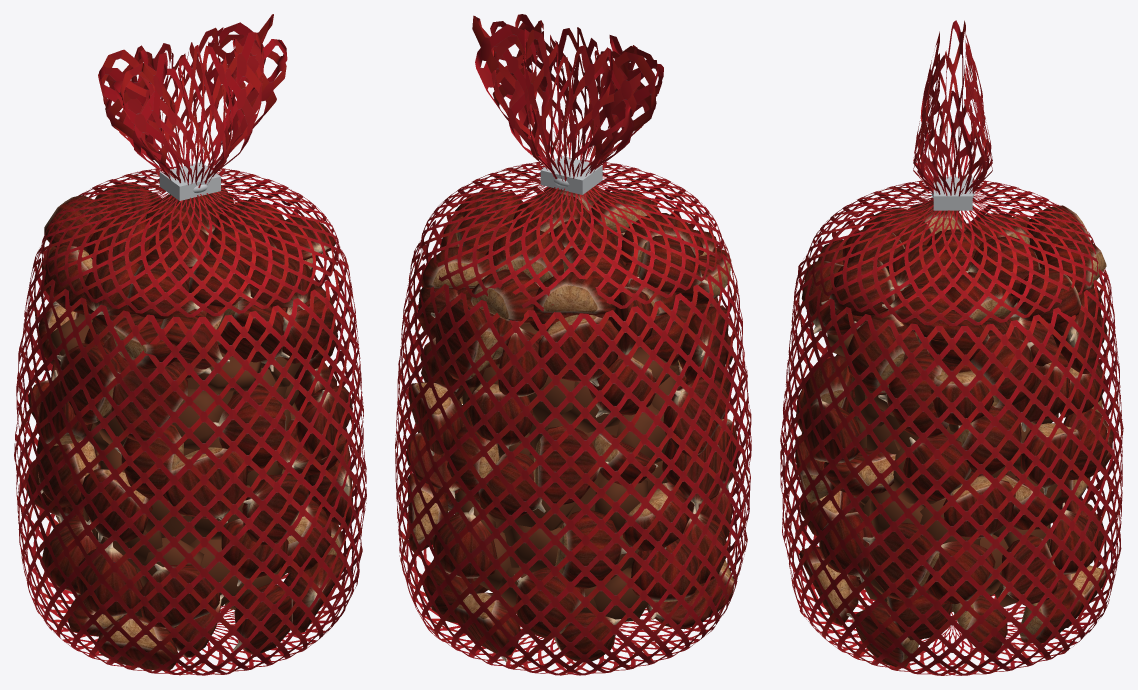
Rendered from paket-1kg.glb.
The picture shows the model from 3 angles, left to right: view 1: azimuth 30°, elevation 25°; view 2: azimuth 150°, elevation 25°; view 3: azimuth 270°, elevation 25°; orthographic projection. The views are drawn at different scales.
Parts seen in each view (by area): view 1: File ağı, shell, kestane-ic-kat, malzeme-3, kestane-cekirdek; view 2: File ağı, shell, kestane-ic-kat, malzeme-3, kestane-cekirdek; view 3: File ağı, shell, kestane-ic-kat, malzeme-3.
Boxes of the visible parts, x1,y1,x2,y2 form: File ağı: (14, 14, 366, 675); shell: (26, 183, 353, 670); kestane-ic-kat: (50, 313, 301, 617); malzeme-3: (159, 162, 220, 200); kestane-cekirdek: (161, 377, 233, 545); File ağı: (395, 14, 751, 675); shell: (406, 186, 738, 661); kestane-ic-kat: (455, 322, 681, 621); malzeme-3: (540, 156, 602, 194); kestane-cekirdek: (498, 419, 619, 567); File ağı: (780, 20, 1123, 675); shell: (795, 201, 1112, 666); kestane-ic-kat: (827, 311, 1061, 607); malzeme-3: (931, 176, 974, 210).
Bounding box in the file's own units: 0.1289 × 0.2386 × 0.1289.
Materials: 5 (2 with a texture image).
